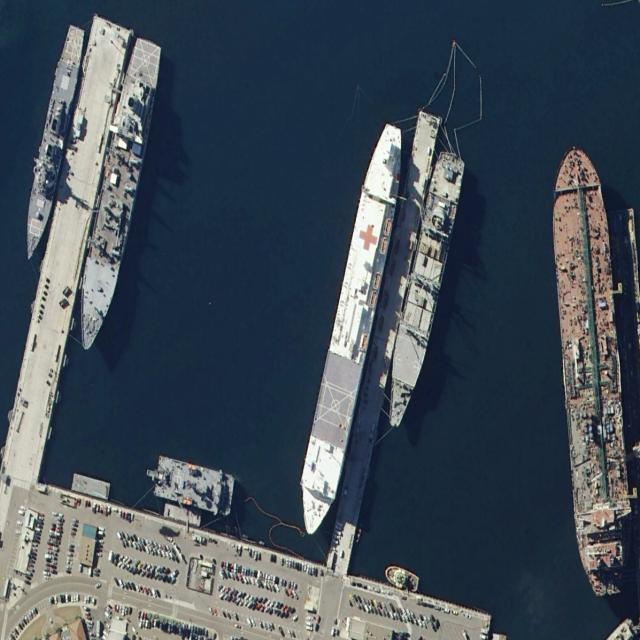Auxiliary Ships: (291, 117, 413, 543)
Destroyer: (17, 21, 88, 264)
Hovercraft: (383, 562, 421, 594)
Landing: (70, 32, 167, 358)
Oil Tanker: (546, 141, 636, 599)
Other Ship: (380, 145, 468, 435)
